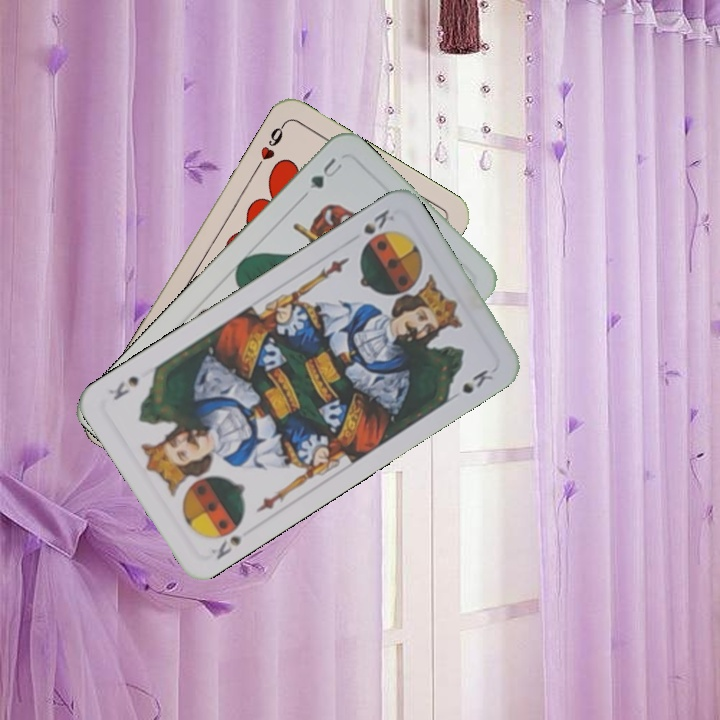GU: (305, 153, 347, 192)
H9: (251, 119, 288, 172)
SK: (359, 205, 397, 237), (207, 531, 244, 562)
